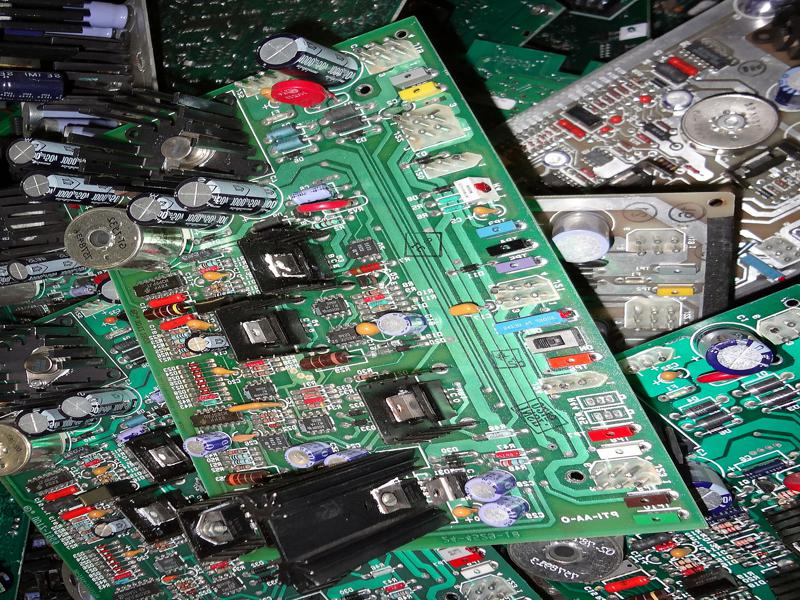Capacitor: (254, 35, 358, 89), (172, 175, 279, 218), (124, 190, 233, 232), (694, 323, 775, 377), (18, 171, 124, 207), (6, 136, 99, 174), (681, 461, 732, 517), (7, 249, 87, 284), (57, 387, 139, 421), (12, 407, 97, 437), (464, 469, 518, 504), (477, 496, 530, 529), (771, 62, 800, 114), (283, 440, 332, 469), (376, 311, 427, 338), (182, 432, 232, 457), (289, 181, 334, 207), (183, 331, 230, 355), (91, 515, 132, 539), (323, 447, 371, 467), (96, 276, 124, 305), (661, 88, 694, 111), (116, 425, 151, 444)
Diode: (754, 385, 800, 410), (743, 375, 787, 397), (680, 399, 721, 420), (693, 410, 735, 430), (112, 336, 139, 352), (121, 346, 145, 362), (428, 182, 453, 197), (281, 148, 306, 162), (455, 262, 484, 274), (752, 554, 778, 567), (438, 451, 465, 463), (344, 128, 367, 142), (410, 154, 434, 167), (391, 342, 416, 354), (72, 429, 95, 442), (248, 564, 271, 576), (738, 541, 760, 553), (256, 572, 277, 584), (348, 417, 369, 429), (710, 590, 732, 600), (340, 592, 365, 600), (346, 408, 366, 418), (750, 551, 772, 560), (443, 461, 466, 469), (130, 358, 147, 367)
Resistor: (297, 348, 351, 373), (223, 468, 277, 489), (142, 301, 189, 321), (732, 535, 759, 548), (717, 524, 742, 537), (773, 489, 799, 500), (500, 457, 526, 468), (299, 385, 320, 396), (677, 561, 700, 571), (671, 557, 694, 567), (712, 521, 734, 531), (248, 363, 270, 373), (361, 288, 383, 298), (371, 303, 392, 313), (355, 372, 378, 381), (251, 369, 273, 378), (235, 463, 255, 472), (257, 411, 277, 420), (261, 416, 280, 425), (302, 391, 322, 399), (169, 338, 188, 346), (231, 452, 250, 460), (307, 401, 326, 409), (169, 333, 186, 341), (173, 346, 188, 355), (168, 328, 187, 335), (227, 449, 246, 456), (232, 459, 254, 465), (180, 352, 197, 359)
